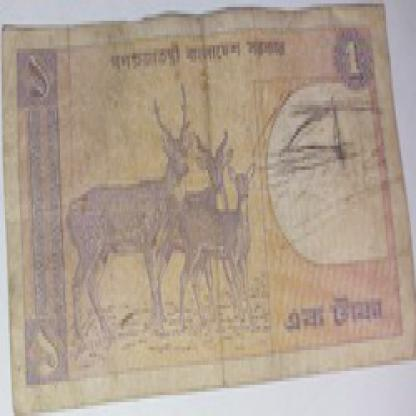One Taka: (281, 291, 386, 333), (26, 319, 66, 385), (17, 49, 55, 104), (341, 38, 368, 87)
